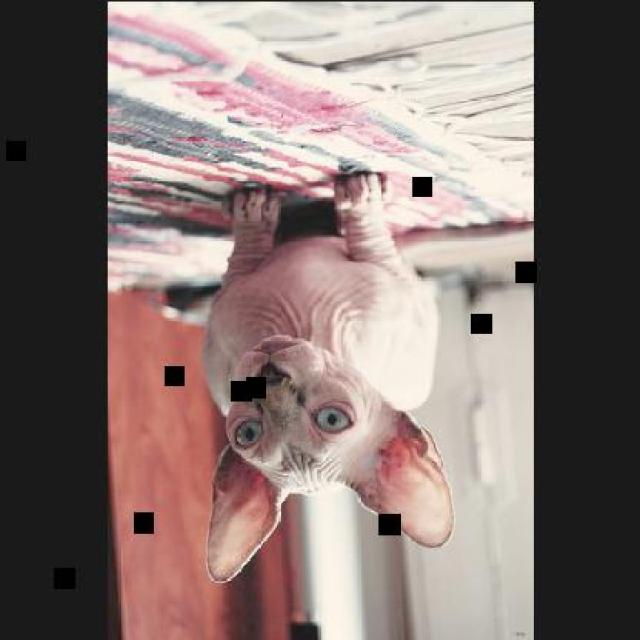unauthorized: (197, 160, 455, 583)
